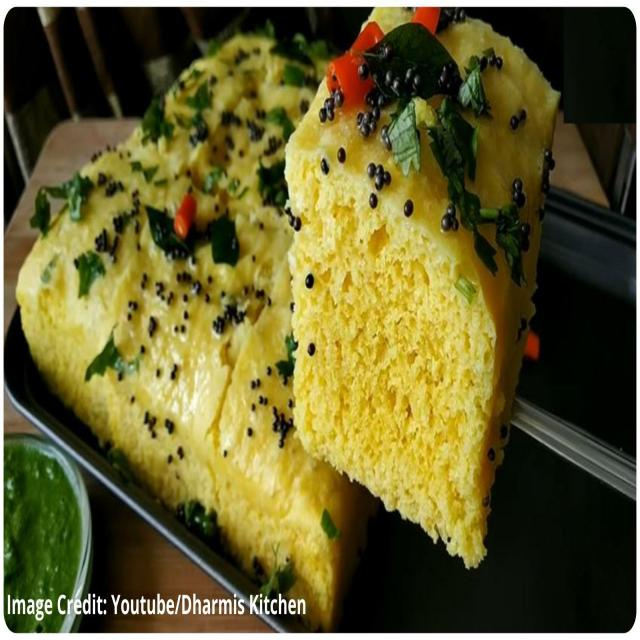dhokla: (18, 13, 563, 633)
